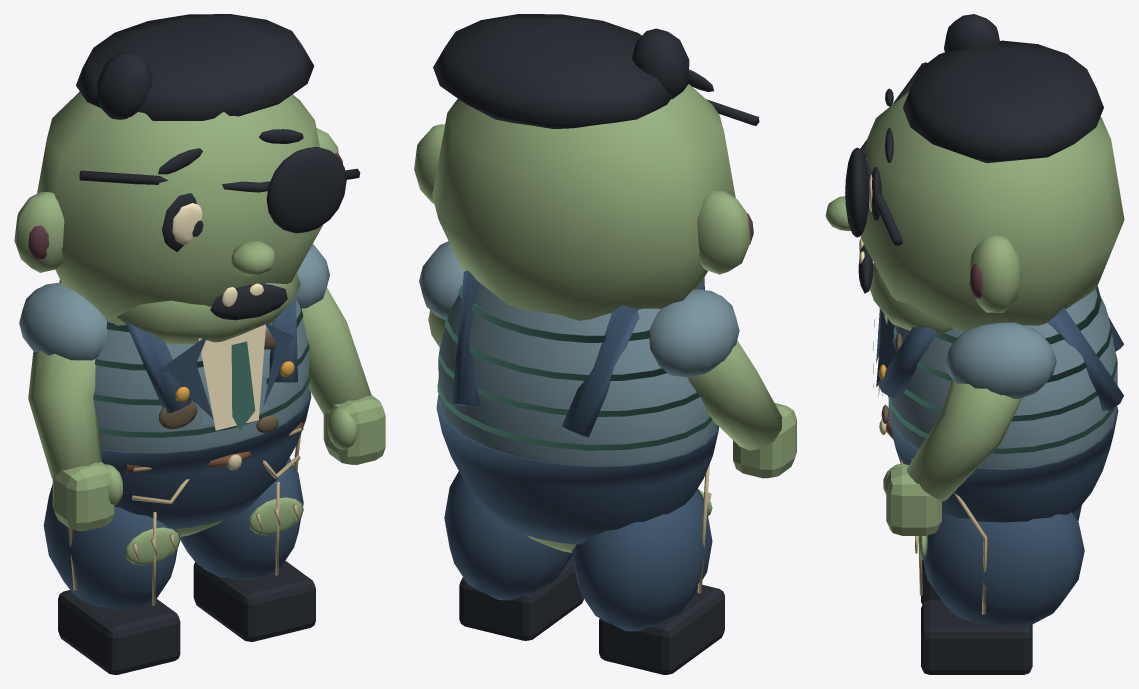
File: zombie.glb
3 views of the same model, side by side, from view 1: azimuth 30°, elevation 25°; view 2: azimuth 150°, elevation 25°; view 3: azimuth 270°, elevation 25° (orthographic). The views are drawn at different scales.
Visible parts, largest first — view 1: Head_mesh, Outfit_Chinos_mesh, Outfit_Suit_mesh, common_zombie_leftArm_mesh, common_zombie_rightArm_mesh, flat_human_foot, flat_human_foot.001, Gear_Eyepatch_mesh, Outfit_Overalls_mesh, Outfit_Torn_mesh, Outfit_Pattern_mesh, Outfit_Stains_mesh; view 2: Head_mesh, Outfit_Chinos_mesh, Outfit_Suit_mesh, common_zombie_leftArm_mesh, flat_human_foot, Outfit_Overalls_mesh, Outfit_Pattern_mesh, flat_human_foot.001; view 3: Head_mesh, Outfit_Chinos_mesh, Outfit_Suit_mesh, common_zombie_rightArm_mesh, flat_human_foot.001, Outfit_Overalls_mesh, Outfit_Pattern_mesh, Gear_Eyepatch_mesh.
Part boxes in pixels (x1,y1,x2,y2): Head_mesh: (14, 14, 342, 344); Outfit_Chinos_mesh: (43, 389, 311, 609); Outfit_Suit_mesh: (19, 244, 329, 452); common_zombie_leftArm_mesh: (28, 350, 122, 530); common_zombie_rightArm_mesh: (301, 287, 385, 464); flat_human_foot: (58, 590, 180, 674); flat_human_foot.001: (193, 561, 315, 641); Gear_Eyepatch_mesh: (79, 147, 360, 233); Outfit_Overalls_mesh: (59, 280, 297, 425); Outfit_Torn_mesh: (125, 497, 303, 565); Outfit_Pattern_mesh: (93, 309, 309, 437); Outfit_Stains_mesh: (159, 328, 284, 433); Head_mesh: (414, 14, 753, 320); Outfit_Chinos_mesh: (436, 394, 718, 631); Outfit_Suit_mesh: (419, 241, 739, 466); common_zombie_leftArm_mesh: (687, 340, 796, 478); flat_human_foot: (599, 585, 724, 674); Outfit_Overalls_mesh: (452, 270, 704, 437); Outfit_Pattern_mesh: (437, 285, 712, 450); flat_human_foot.001: (459, 555, 583, 640); Head_mesh: (825, 14, 1124, 336); Outfit_Chinos_mesh: (879, 407, 1118, 625); Outfit_Suit_mesh: (873, 289, 1117, 468); common_zombie_rightArm_mesh: (883, 379, 1022, 535); flat_human_foot.001: (921, 599, 1032, 674); Outfit_Overalls_mesh: (878, 308, 1123, 411); Outfit_Pattern_mesh: (888, 286, 1117, 453); Gear_Eyepatch_mesh: (845, 62, 927, 246).
Bounding box in the file's own units: 1.04 × 1.85 × 0.8587.
